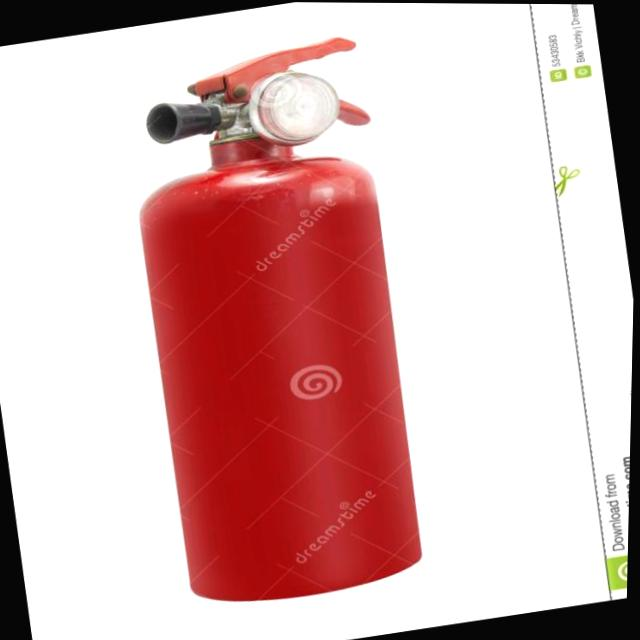FireExtinguisher: (88, 22, 461, 622)
